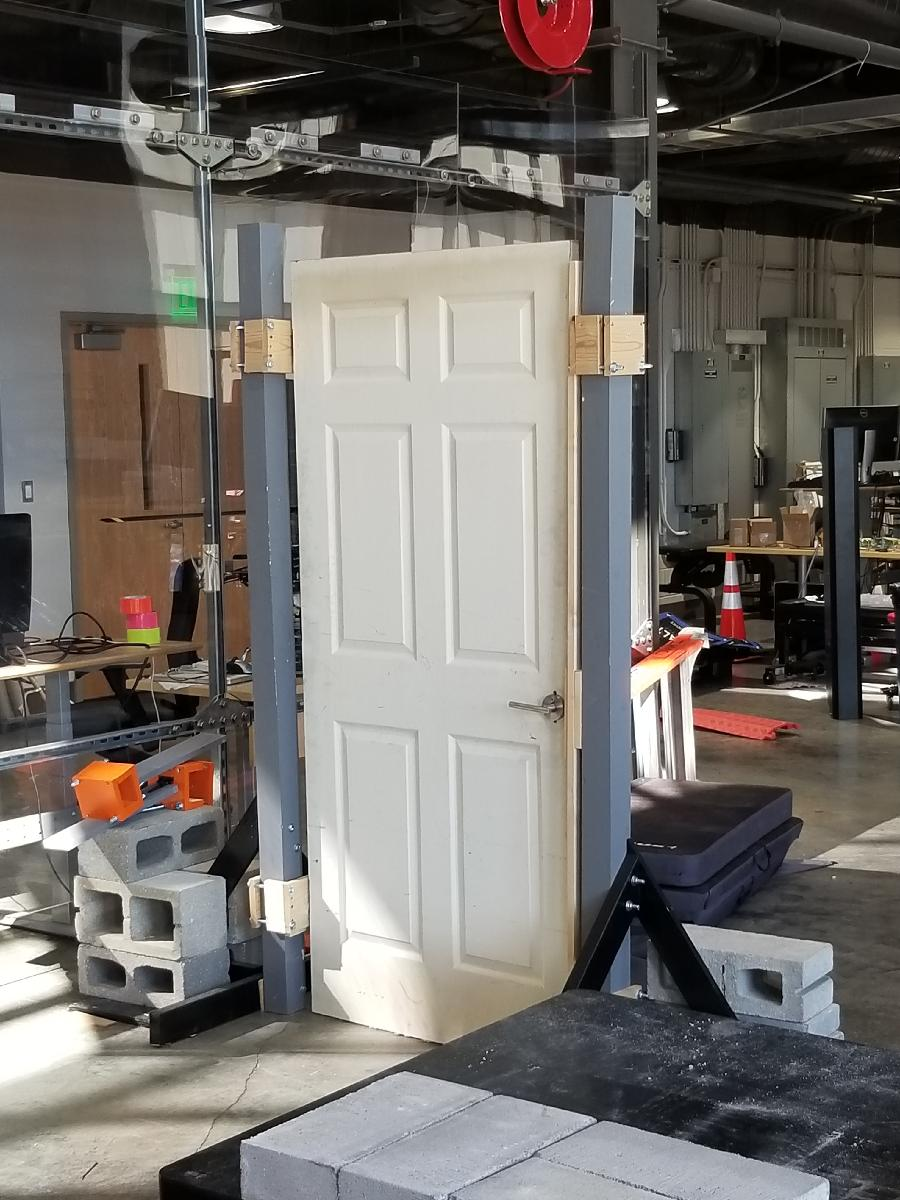door: (284, 236, 578, 1067)
doorHandle: (506, 689, 568, 728)
